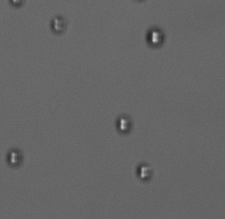Living Cell: (145, 27, 167, 49), (4, 148, 27, 167), (135, 162, 155, 182), (50, 14, 68, 34), (116, 114, 132, 134)
